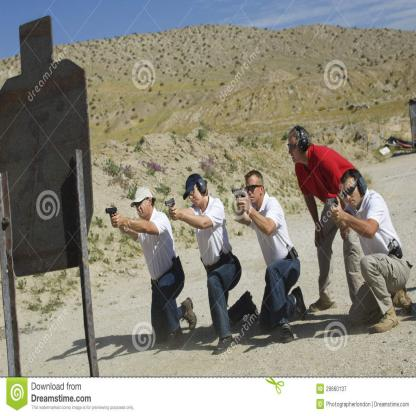handgun: (232, 184, 249, 218), (328, 193, 344, 224), (165, 199, 180, 220), (106, 205, 118, 230)
